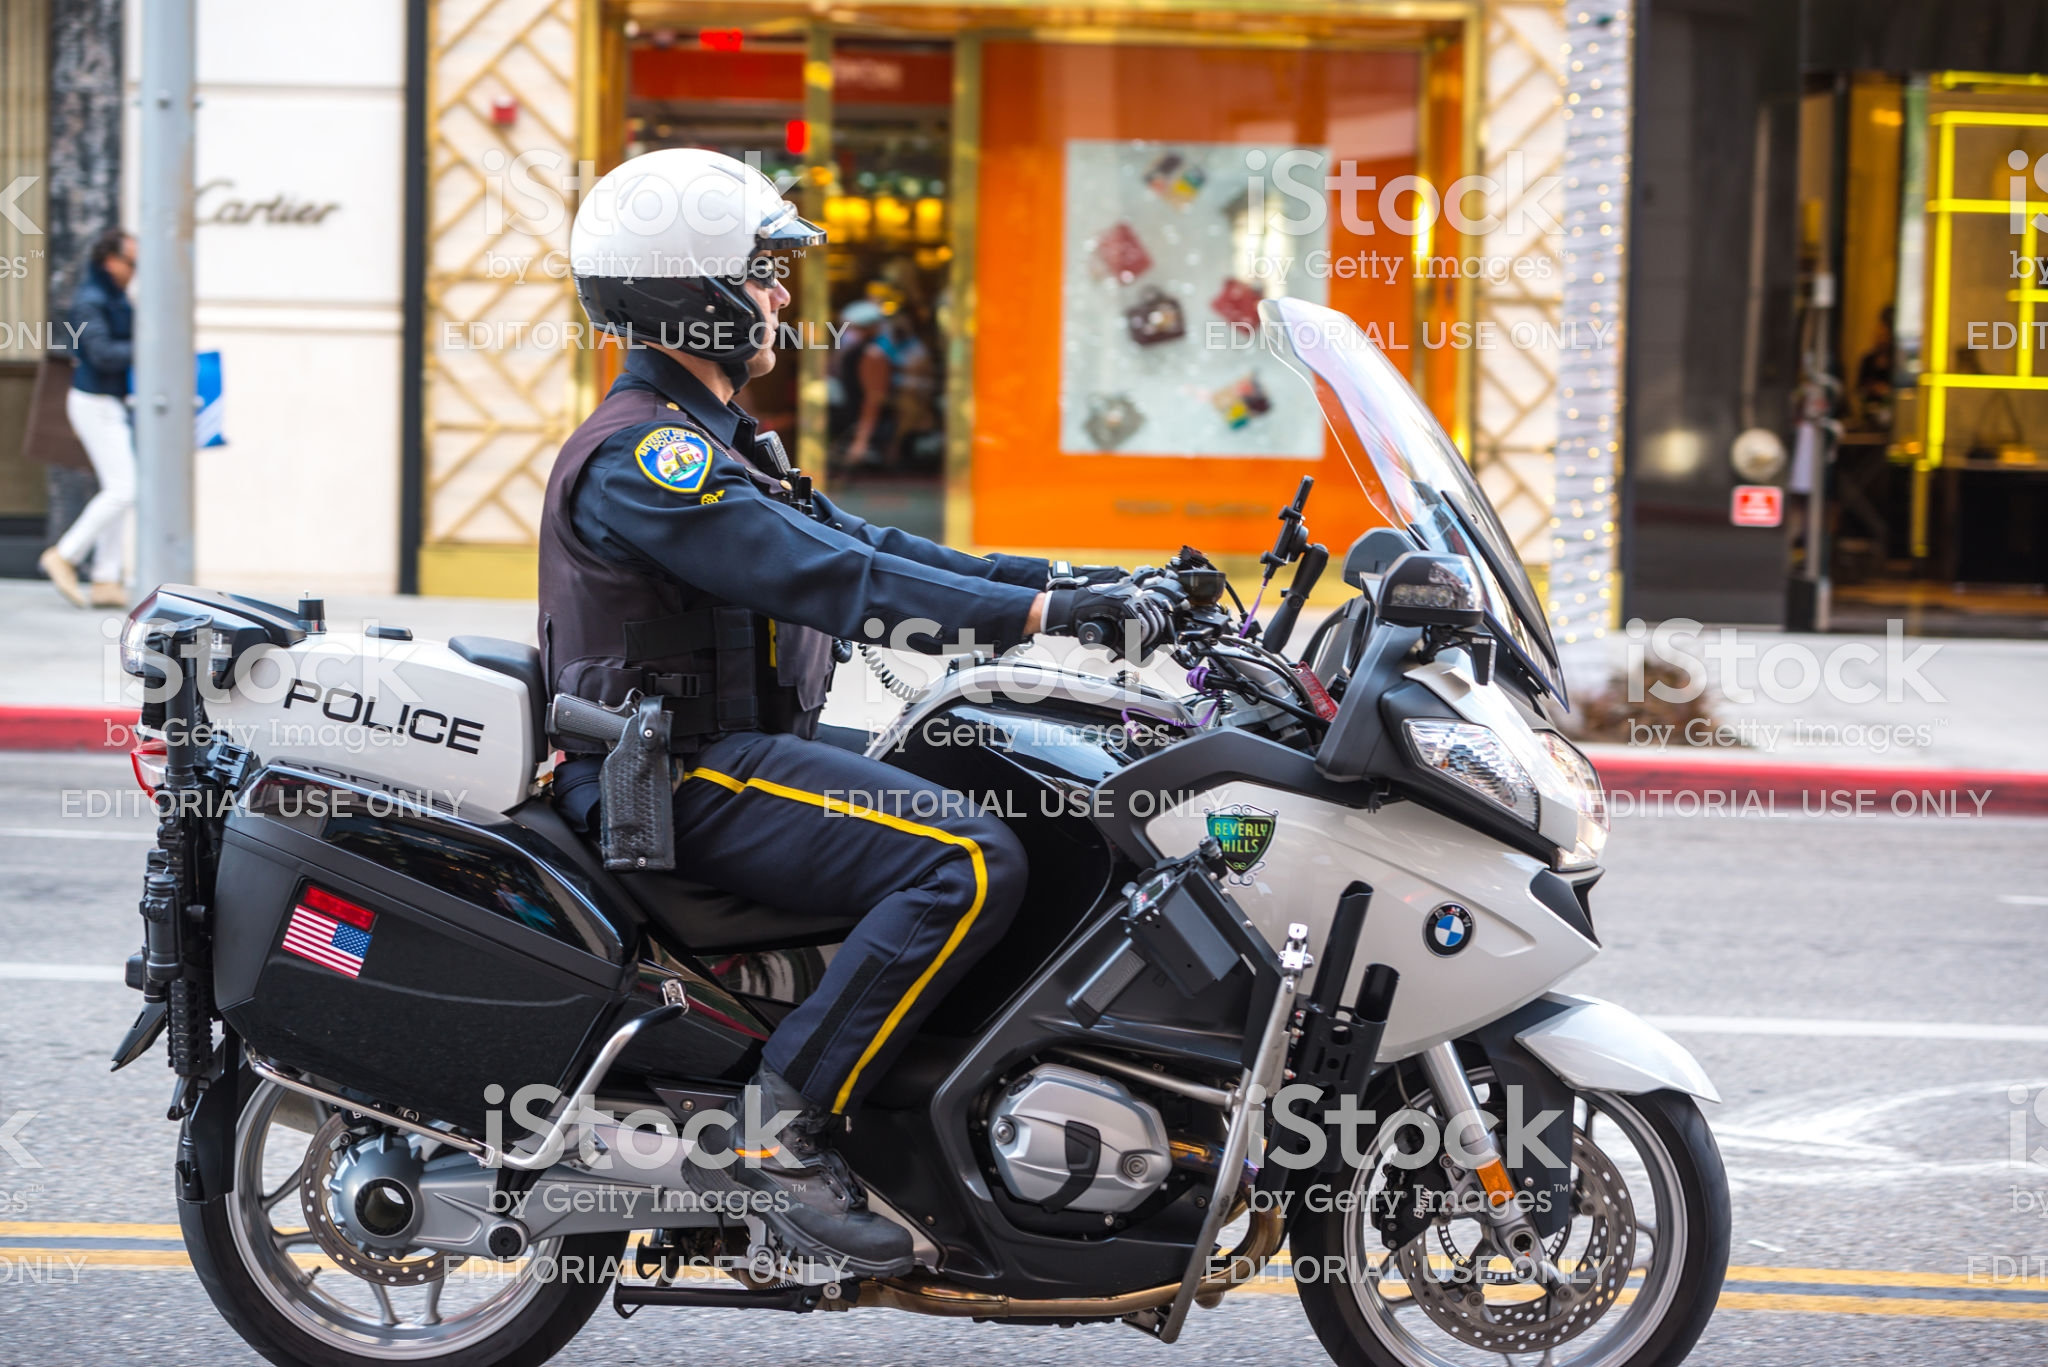helmet: (546, 137, 849, 346)
